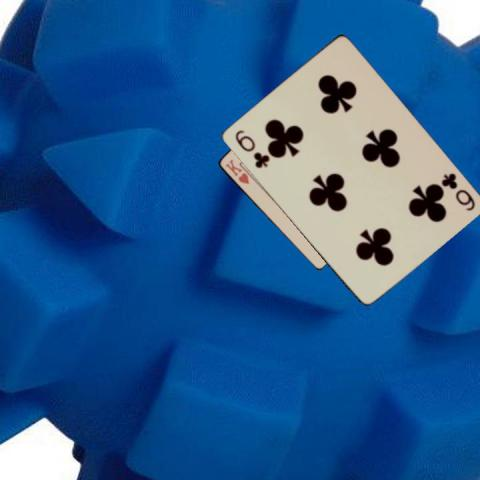6c: (231, 127, 271, 170), (438, 169, 477, 213)
Kh: (222, 156, 251, 185)
